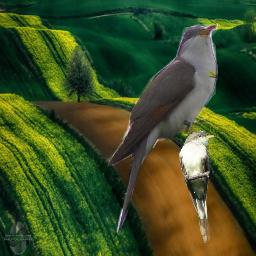Cuckoo: (107, 24, 218, 237), (179, 130, 216, 244)
